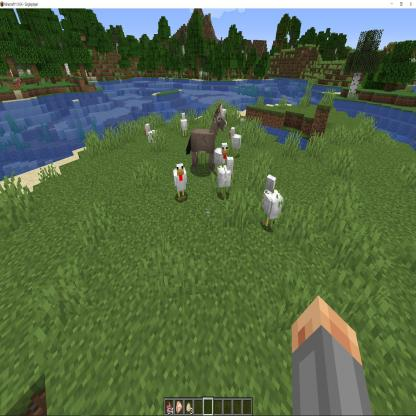minecraft-pigs: (163, 155, 226, 297), (0, 76, 31, 115), (138, 52, 145, 60)
